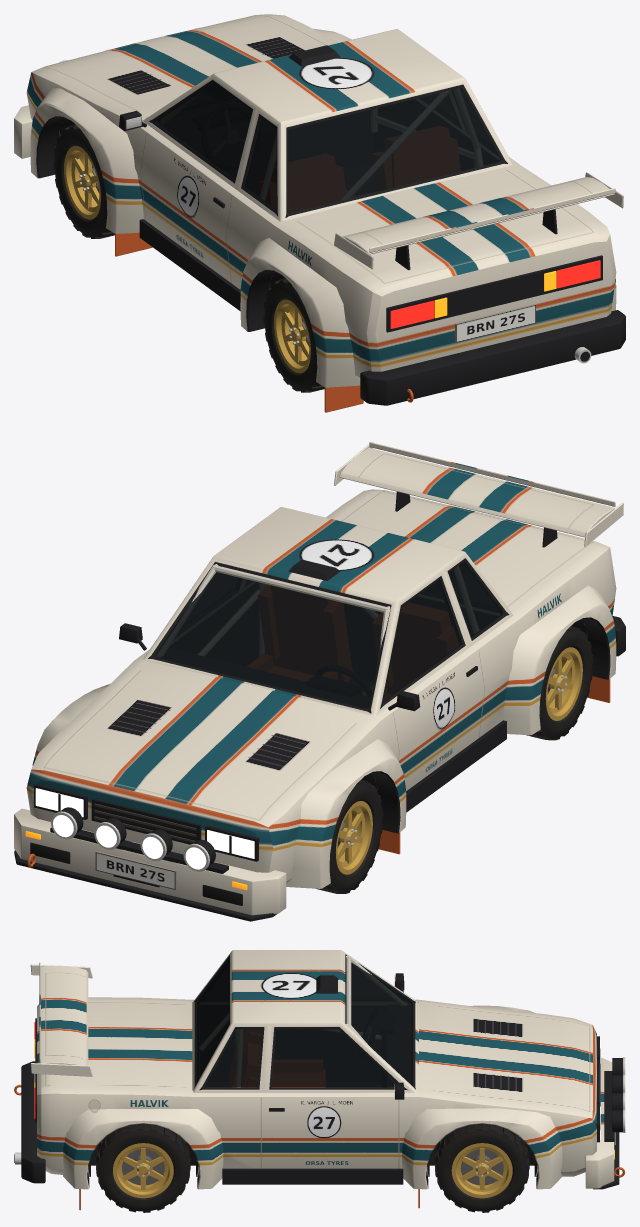
File: CAR-009_Export.fbx
3 views of the same model, one above another, from view 1: azimuth 30°, elevation 25°; view 2: azimuth 150°, elevation 25°; view 3: azimuth 270°, elevation 25° (orthographic). The views are drawn at different scales.
Visible parts, largest first — view 1: CAR-009_Body, CAR-009_Glass, CAR-009_Bumper_Rear, CAR-009_Spoiler, CAR-009_Lights, CAR-009_Trim, CAR-009_Wheel_RL_Tire, CAR-009_Wheel_FL_Tire, CAR-009_Wheel_RL_Rim, CAR-009_Wheel_FL_Rim, CAR-009_MudFlaps, CAR-009_Bumper_Front; view 2: CAR-009_Body, CAR-009_Glass, CAR-009_Spoiler, CAR-009_Bumper_Front, CAR-009_Trim, CAR-009_Lights, CAR-009_Wheel_RL_Tire, CAR-009_Wheel_FL_Tire, CAR-009_Wheel_FL_Rim, CAR-009_Wheel_RL_Rim, CAR-009_Interior, CAR-009_MudFlaps (+1 smaller); view 3: CAR-009_Body, CAR-009_Glass, CAR-009_Spoiler, CAR-009_Wheel_RR_Tire, CAR-009_Wheel_FR_Tire, CAR-009_Trim, CAR-009_Wheel_FR_Rim, CAR-009_Wheel_RR_Rim, CAR-009_Lights, CAR-009_Bumper_Front, CAR-009_Bumper_Rear, CAR-009_Interior.
Boxes of the visible parts, x1=… form: CAR-009_Body: x1=26, y1=14, x2=616, y2=387; CAR-009_Glass: x1=157, y1=83, x2=500, y2=212; CAR-009_Bumper_Rear: x1=360, y1=310, x2=625, y2=405; CAR-009_Spoiler: x1=334, y1=172, x2=623, y2=270; CAR-009_Lights: x1=59, y1=27, x2=602, y2=332; CAR-009_Trim: x1=139, y1=45, x2=591, y2=402; CAR-009_Wheel_RL_Tire: x1=263, y1=278, x2=324, y2=392; CAR-009_Wheel_FL_Tire: x1=53, y1=124, x2=114, y2=238; CAR-009_Wheel_RL_Rim: x1=274, y1=299, x2=310, y2=373; CAR-009_Wheel_FL_Rim: x1=64, y1=146, x2=100, y2=219; CAR-009_MudFlaps: x1=115, y1=232, x2=363, y2=412; CAR-009_Bumper_Front: x1=14, y1=105, x2=147, y2=158; CAR-009_Body: x1=26, y1=489, x2=616, y2=888; CAR-009_Glass: x1=155, y1=562, x2=502, y2=708; CAR-009_Spoiler: x1=334, y1=441, x2=623, y2=547; CAR-009_Bumper_Front: x1=14, y1=808, x2=286, y2=921; CAR-009_Trim: x1=27, y1=559, x2=506, y2=889; CAR-009_Lights: x1=34, y1=783, x2=259, y2=873; CAR-009_Wheel_RL_Tire: x1=526, y1=625, x2=593, y2=740; CAR-009_Wheel_FL_Tire: x1=316, y1=779, x2=383, y2=893; CAR-009_Wheel_FL_Rim: x1=335, y1=801, x2=372, y2=874; CAR-009_Wheel_RL_Rim: x1=545, y1=647, x2=582, y2=720; CAR-009_Interior: x1=189, y1=564, x2=390, y2=648; CAR-009_MudFlaps: x1=378, y1=676, x2=610, y2=854; CAR-009_Body: x1=37, y1=950, x2=596, y2=1189; CAR-009_Glass: x1=197, y1=959, x2=412, y2=1086; CAR-009_Spoiler: x1=30, y1=962, x2=92, y2=1076; CAR-009_Wheel_RR_Tire: x1=96, y1=1123, x2=190, y2=1212; CAR-009_Wheel_FR_Tire: x1=435, y1=1123, x2=529, y2=1212; CAR-009_Trim: x1=14, y1=975, x2=625, y2=1184; CAR-009_Wheel_FR_Rim: x1=451, y1=1143, x2=512, y2=1198; CAR-009_Wheel_RR_Rim: x1=113, y1=1143, x2=173, y2=1198; CAR-009_Lights: x1=34, y1=1018, x2=625, y2=1142; CAR-009_Bumper_Front: x1=585, y1=1057, x2=619, y2=1189; CAR-009_Bumper_Rear: x1=21, y1=1061, x2=45, y2=1183; CAR-009_Interior: x1=208, y1=955, x2=394, y2=1087.
Size of the model in its own units: 1.92 by 1.37 by 4.26.
17 materials, 2 textured.
